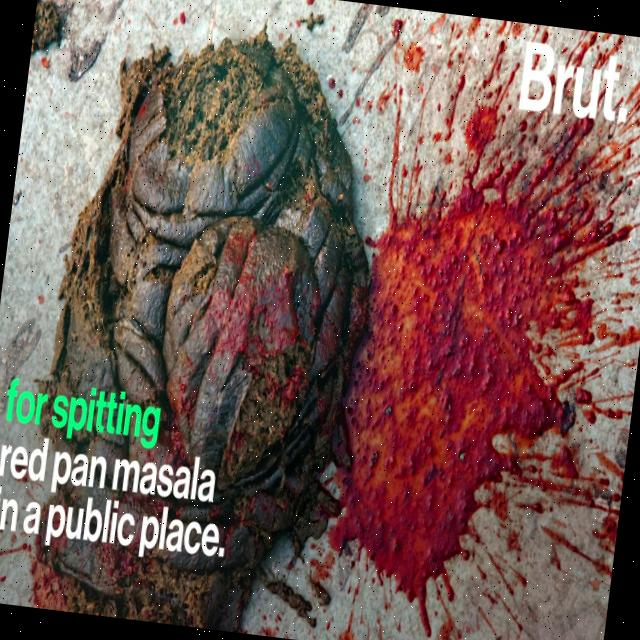spit: (476, 309, 631, 619)
